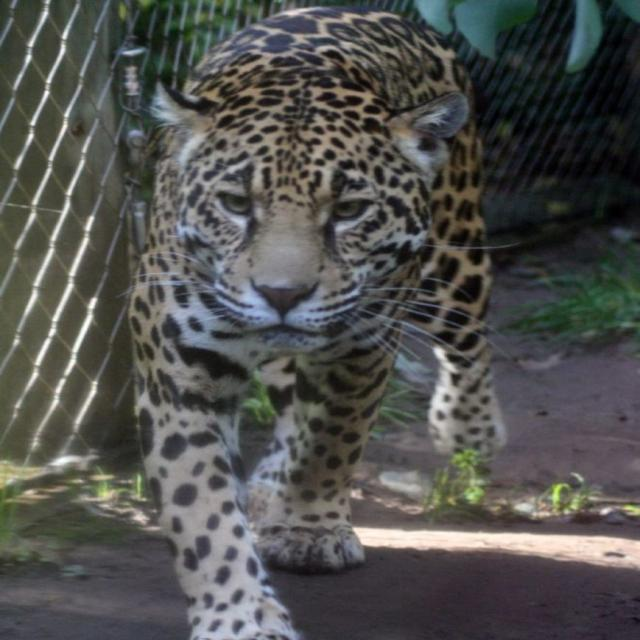Cheetah: (122, 0, 518, 639)
